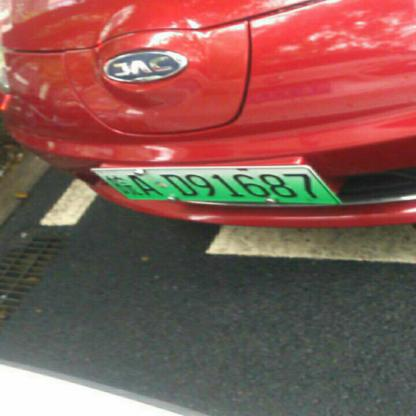lp: (92, 167, 340, 202)
